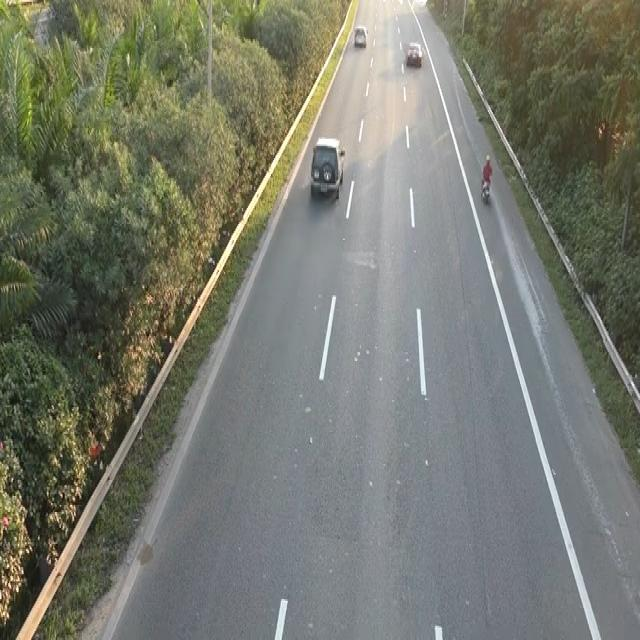car: (307, 134, 348, 206)
minibus: (479, 170, 492, 204)
